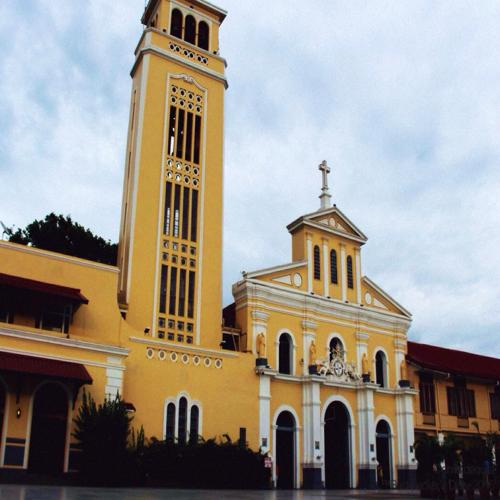Manaoag Church: (126, 3, 417, 500)
